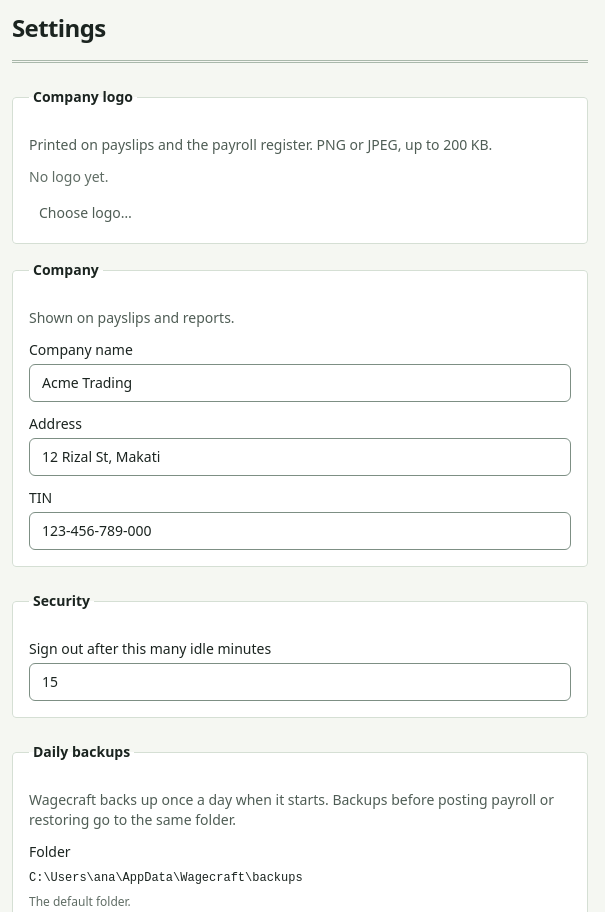
Test: SettingsPage › keeps unsaved form edits when the logo changes
Replace the text in the field labelled "Company name" with "Acme Trading Corp.": {"x": 300, "y": 383} [29, 364, 571, 402]
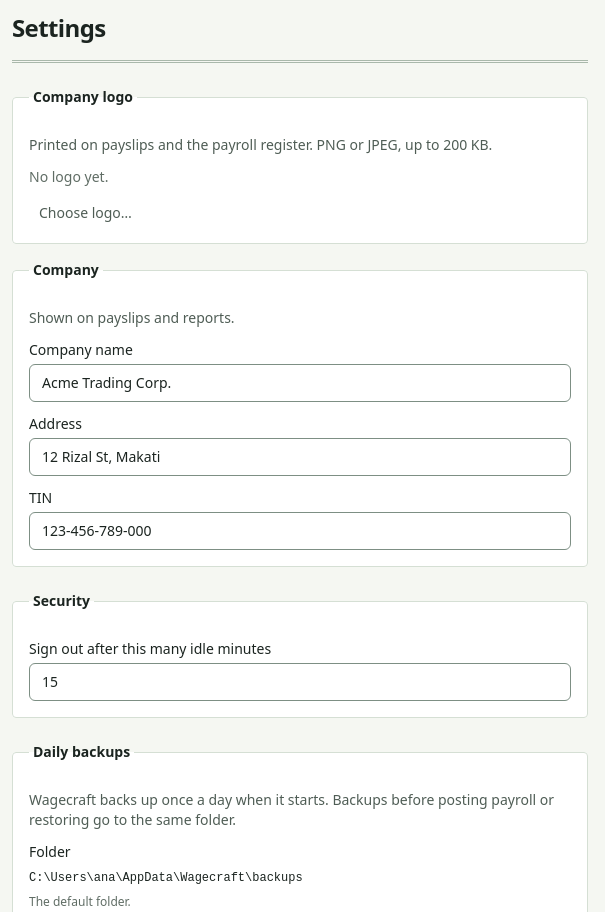
Click the button "Choose logo…": {"x": 85, "y": 213} [29, 199, 142, 227]
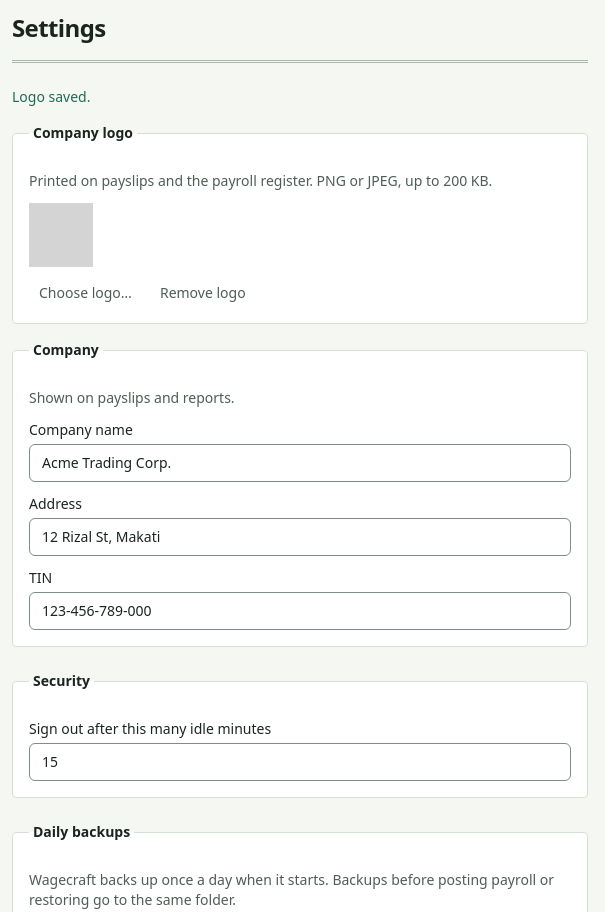
Expected: the message reads "Logo saved.", [12, 87, 90, 106]
